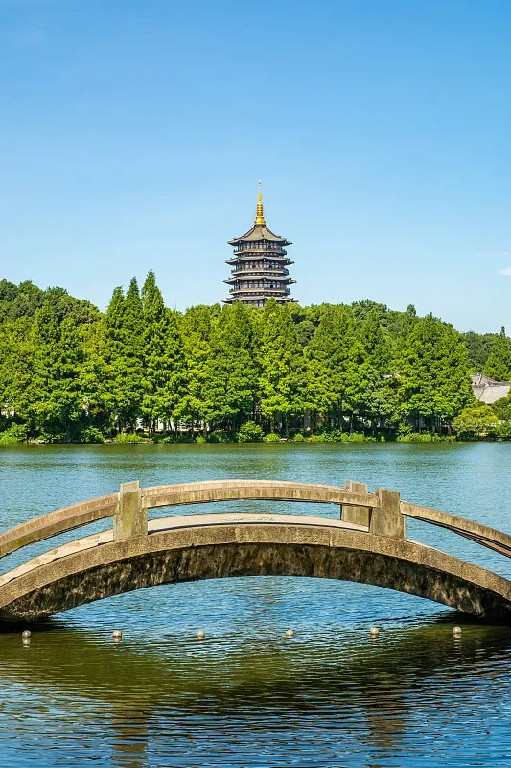Leifeng: (223, 178, 301, 316)
